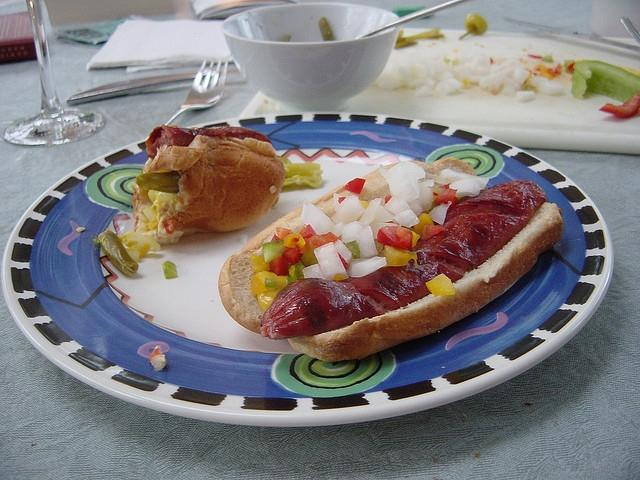green bean: (97, 228, 138, 278), (136, 170, 180, 193), (318, 17, 336, 41), (280, 35, 292, 42)
onion: (378, 161, 426, 207), (314, 241, 349, 280), (300, 199, 334, 235), (454, 55, 491, 84), (331, 195, 366, 224), (348, 256, 387, 277), (356, 224, 378, 258), (360, 198, 382, 226), (429, 201, 452, 226), (449, 179, 480, 197), (342, 221, 364, 244), (394, 210, 419, 228), (356, 213, 364, 221)
